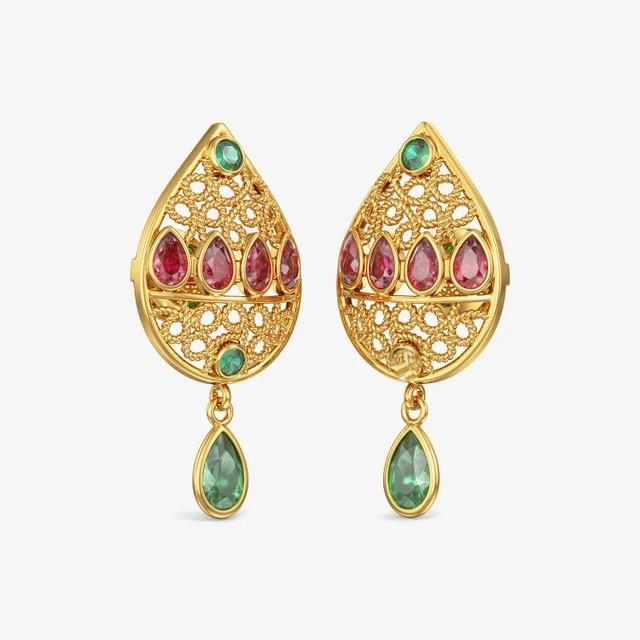missing gem: (390, 348, 421, 381)
